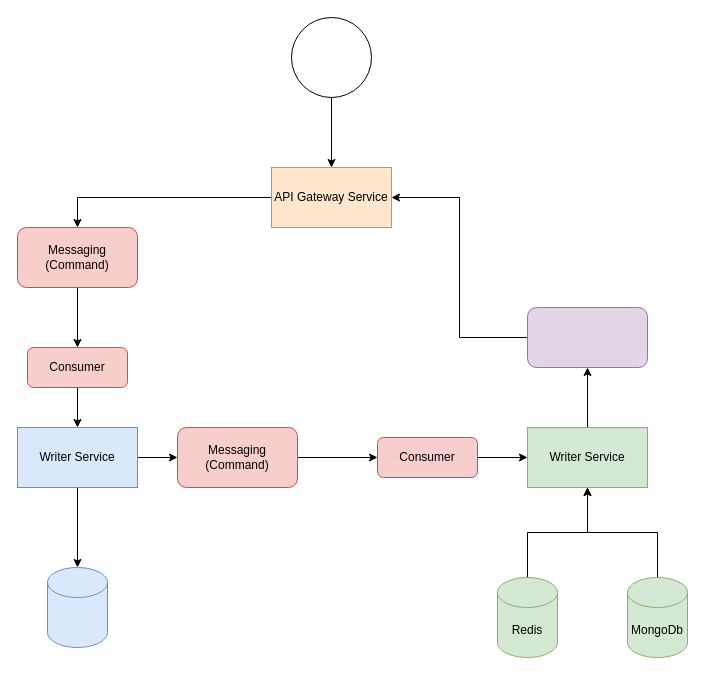
The diagram is 705 pixels wide and 675 high, and some of its shapes have lost their labels. The shapes that lost their labels are listed below. From the top down, each one's centre as x and y in pixels, then its label:
At pixel 331 57: "Client".
At pixel 587 337: "gRPC (Query)".
At pixel 77 607: "Postgres SQL".
